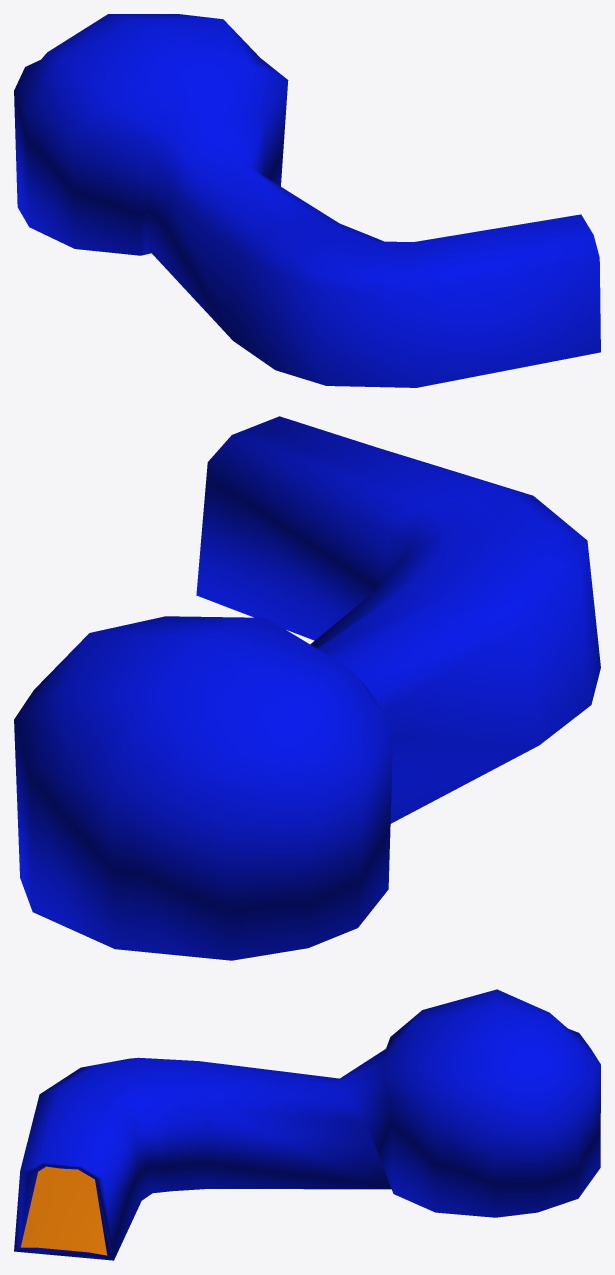
File: luolanlattiatesti1.fbx
The picture shows the model from 3 angles, top to bottom: view 1: azimuth 30°, elevation 25°; view 2: azimuth 150°, elevation 25°; view 3: azimuth 270°, elevation 25°; orthographic projection. The views are drawn at different scales.
Visible parts, largest first — view 1: luola; view 2: luola; view 3: luola, luola.001.
Boxes of the visible parts, box(x1,y1,x2,y2) form: luola: box(14, 14, 600, 387); luola: box(14, 416, 600, 960); luola: box(14, 989, 600, 1260); luola.001: box(21, 1166, 107, 1255).
Bounding box in the file's own units: 12.29 × 6.42 × 21.07.
